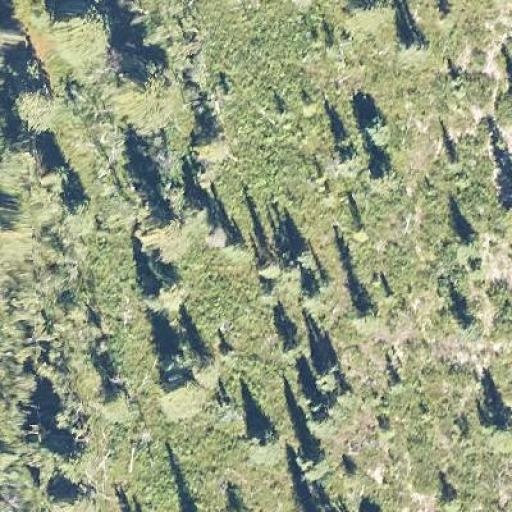tree-top: (106, 55, 184, 123), (50, 3, 113, 55), (10, 77, 62, 128), (155, 365, 207, 415), (184, 120, 238, 165), (144, 273, 190, 316), (475, 408, 511, 450), (389, 26, 429, 62), (244, 419, 286, 453), (357, 113, 394, 147), (366, 162, 405, 194), (307, 360, 341, 394), (349, 300, 384, 330), (102, 386, 128, 426), (57, 440, 89, 472), (59, 483, 92, 512), (301, 450, 326, 484), (256, 250, 282, 282), (454, 226, 482, 254), (221, 236, 251, 262), (458, 308, 484, 338), (275, 333, 306, 358)
